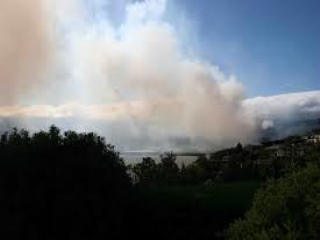smoke: (115, 22, 249, 144)
